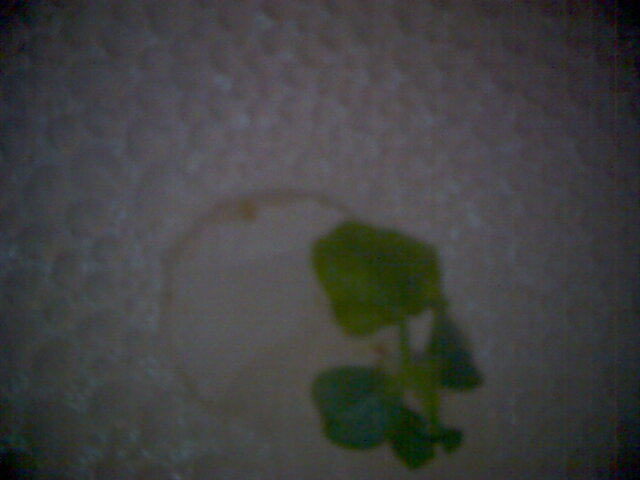lil_plant: (230, 195, 494, 462)
